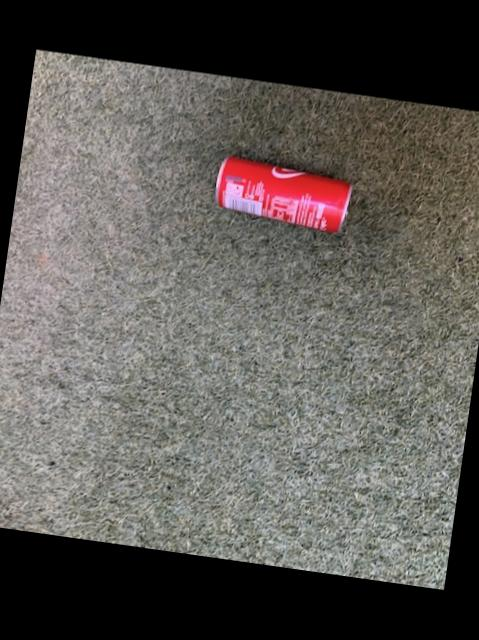metal: (214, 155, 349, 231)
